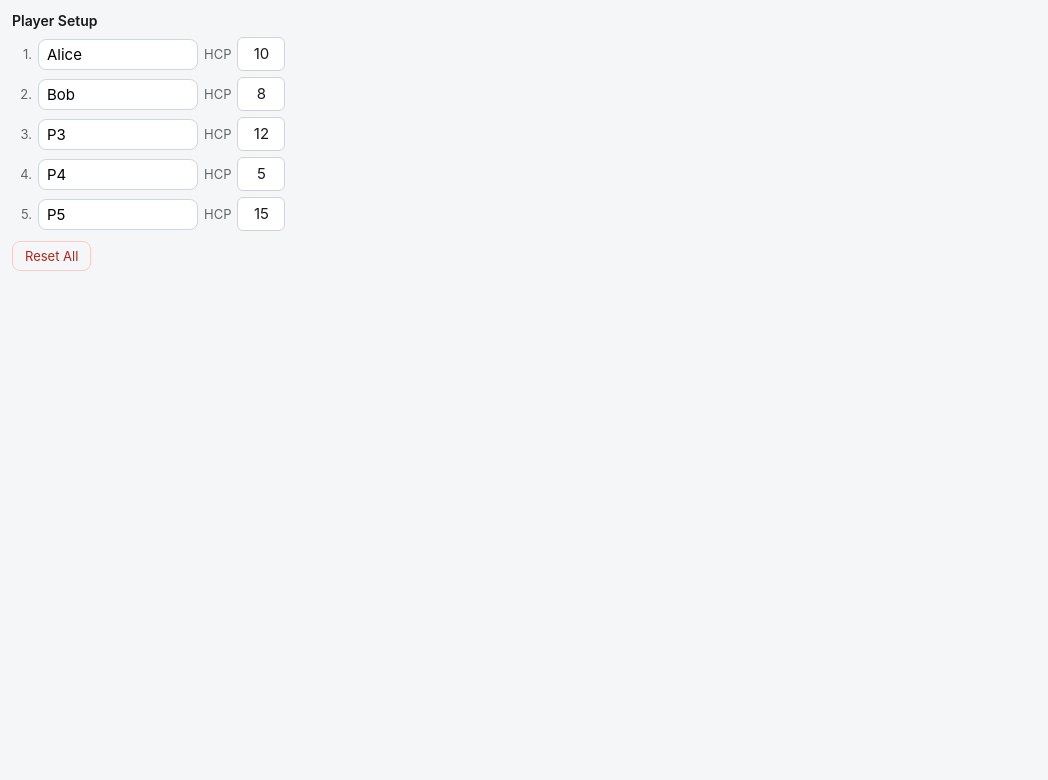
it: PlayerSetupPanel — Done button smart-advance › advances straight into the NEXT player's HCP keypad when that player already has a real name (all-names-first flow)
The width and height of the screenshot is (1048, 780).
Note: Open Alice's keypad directly (tap the HCP box) and hit Done.
Click the text "10" at {"x": 262, "y": 54}, box [238,37,286,71]
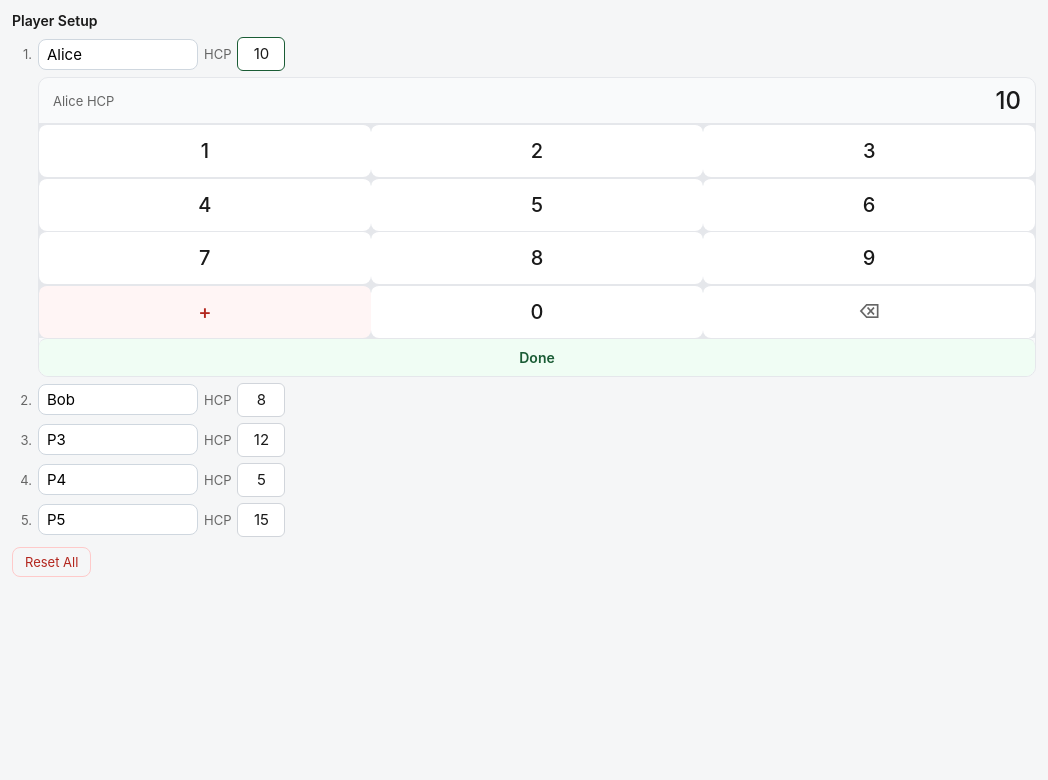
Expected: the text "Alice HCP" is shown, [53,92,114,108]
Press the mouse on the button "Done" at {"x": 537, "y": 356}, box [39,338,1035,376]
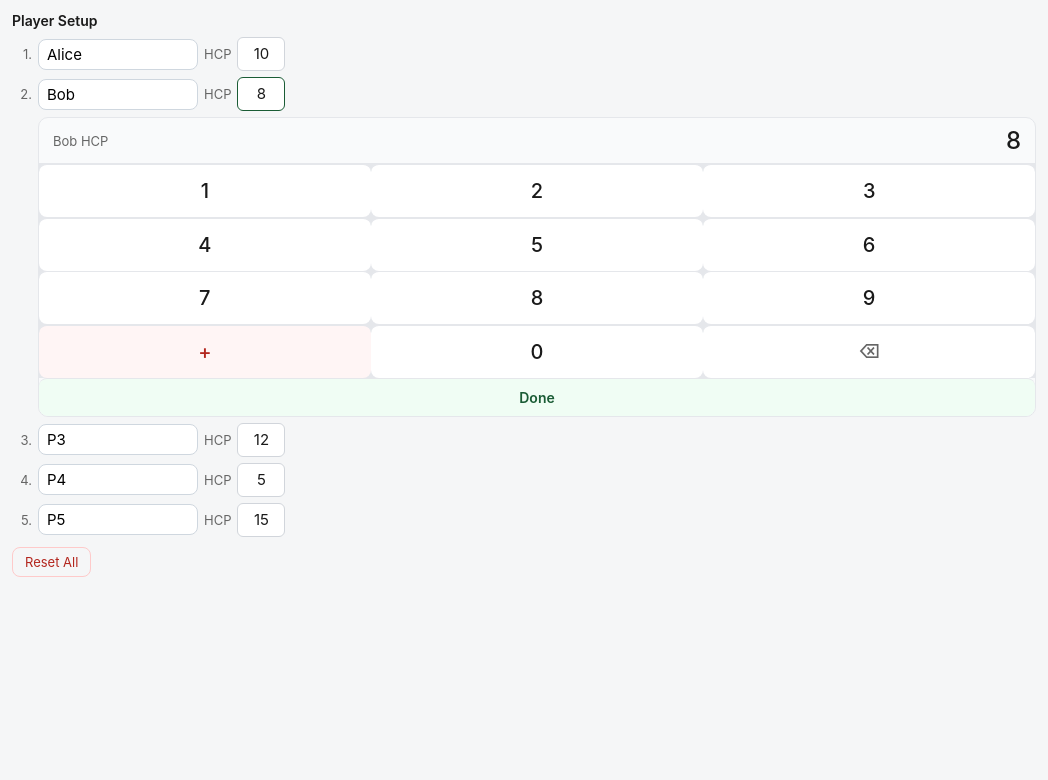
Expected: the text "Bob HCP" is shown, [53,132,108,148]
